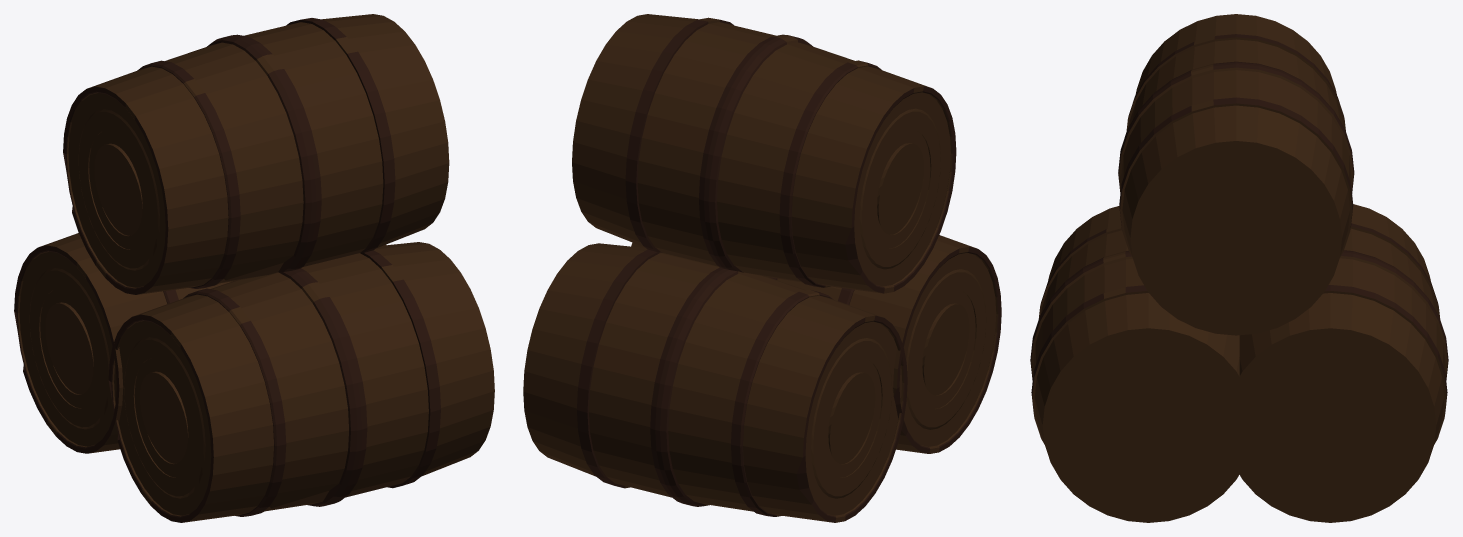
File: barrel.fbx
3 views of the same model, side by side, from view 1: azimuth 30°, elevation 25°; view 2: azimuth 150°, elevation 25°; view 3: azimuth 270°, elevation 25° (orthographic). The views are drawn at different scales.
Visible parts, largest first — view 1: Cylinder.003, Cylinder, Cylinder.001; view 2: Cylinder.003, Cylinder.001, Cylinder; view 3: Cylinder.003, Cylinder.001, Cylinder.
Boxes of the visible parts, <box> form: Cylinder.003: <box>63,14,449,294</box>; Cylinder: <box>108,242,494,522</box>; Cylinder.001: <box>14,233,386,453</box>; Cylinder.003: <box>572,14,956,293</box>; Cylinder.001: <box>523,243,907,522</box>; Cylinder: <box>631,235,1001,453</box>; Cylinder.003: <box>1118,14,1354,335</box>; Cylinder.001: <box>1225,204,1448,522</box>; Cylinder: <box>1030,206,1254,522</box>.
Size of the model in its own units: 427 by 615 by 576.
